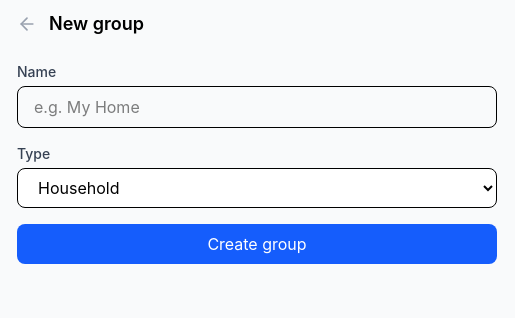
Test: GroupFormPage — create › shows validation error when name is blank
Click the button "Create group".
click(257, 244)  # box [17,224,497,264]
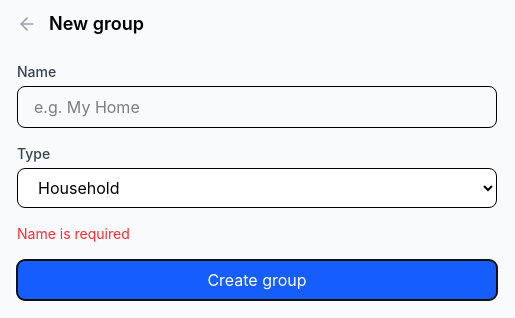
Result: the text "Name is required" is shown at [17,225,130,242]
